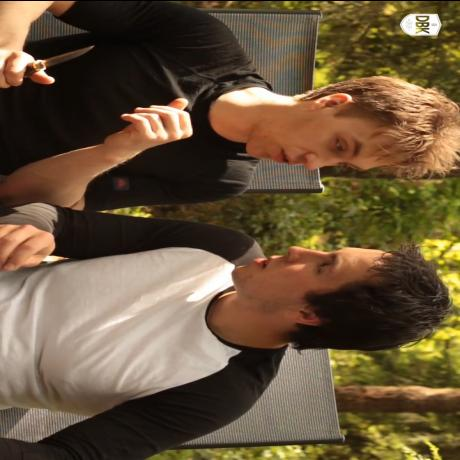1: (0, 206, 450, 460), (0, 0, 460, 211)
weapon: (25, 42, 96, 76)
